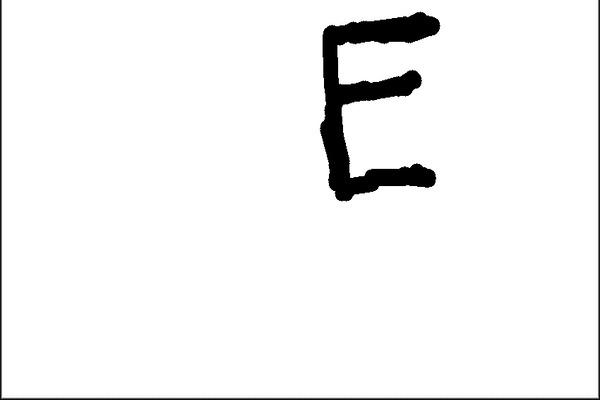E: (315, 7, 444, 205)
